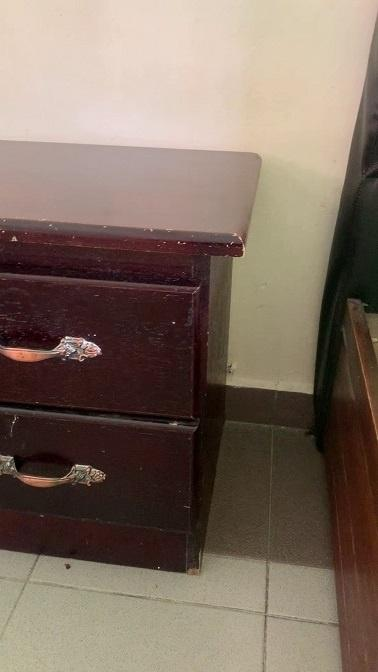cabinet_door: (0, 277, 203, 407), (0, 408, 196, 529)
handle: (0, 448, 117, 498), (0, 329, 108, 369)
